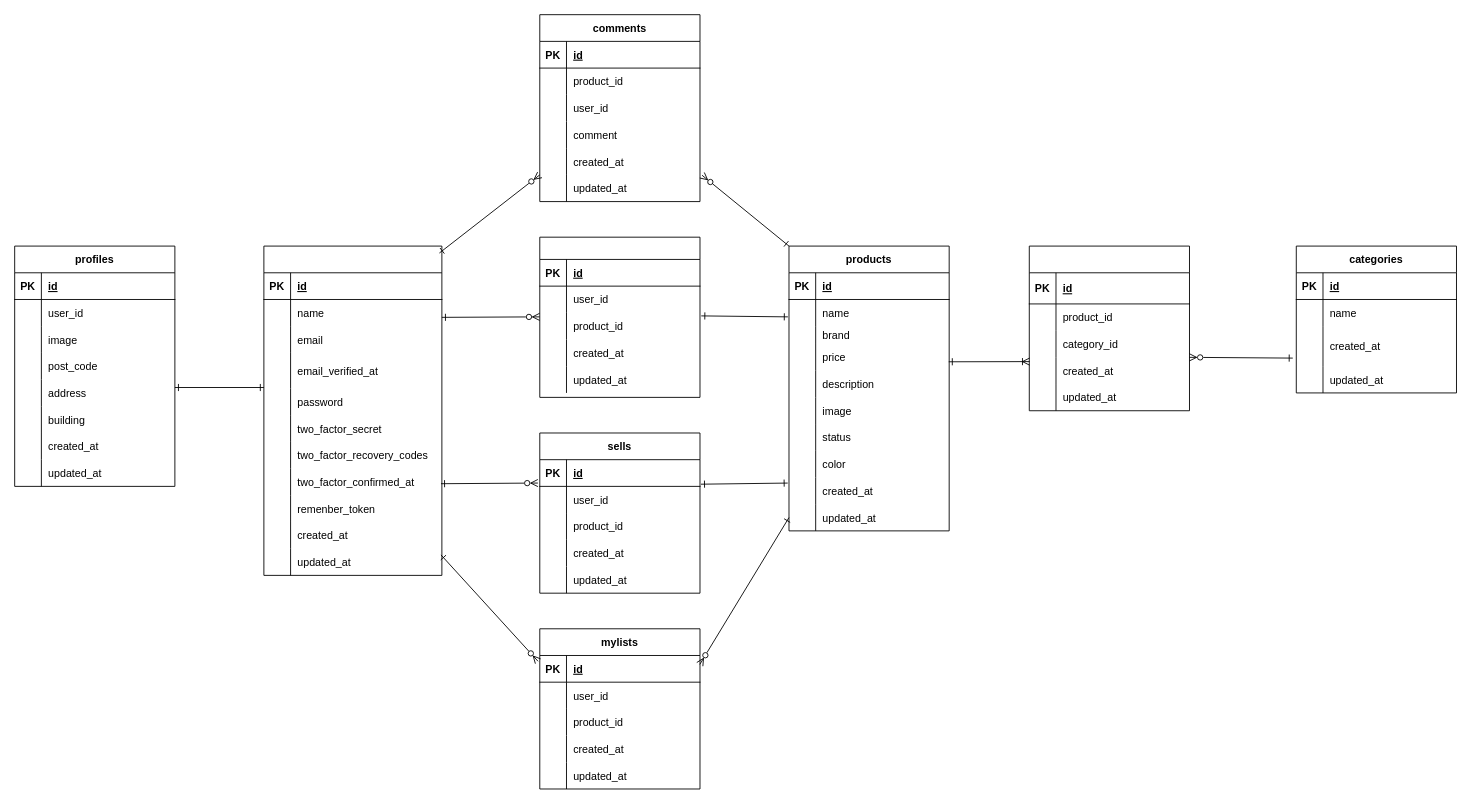
The diagram is 1471 pixels wide and 804 high, and some of its shapes have lost their labels. The box of each missing label's shape, as (x1, y1, x2, y2) in pixels:
category_products: (1028, 245, 1189, 411)
purchases: (539, 236, 700, 397)
users: (263, 245, 442, 575)
